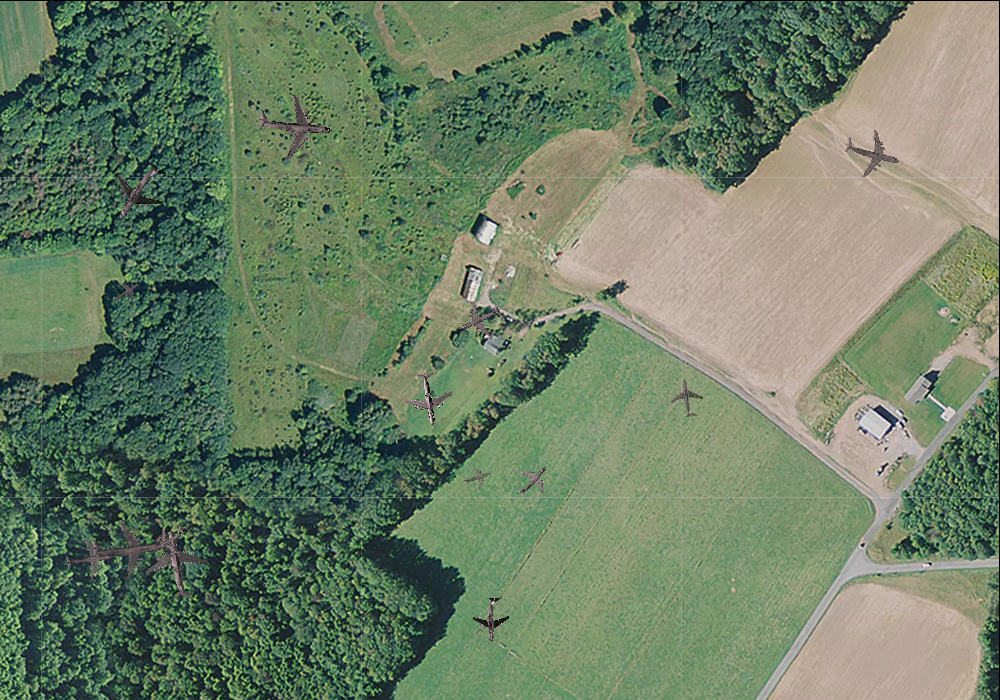plane: (96, 148, 182, 236), (254, 86, 334, 163), (139, 525, 214, 604), (87, 510, 166, 585), (838, 119, 906, 185), (451, 290, 509, 347), (400, 369, 456, 428), (62, 534, 116, 586), (506, 454, 558, 507), (143, 516, 192, 564), (470, 596, 514, 643), (667, 377, 708, 419), (106, 272, 146, 312), (459, 460, 495, 494)
